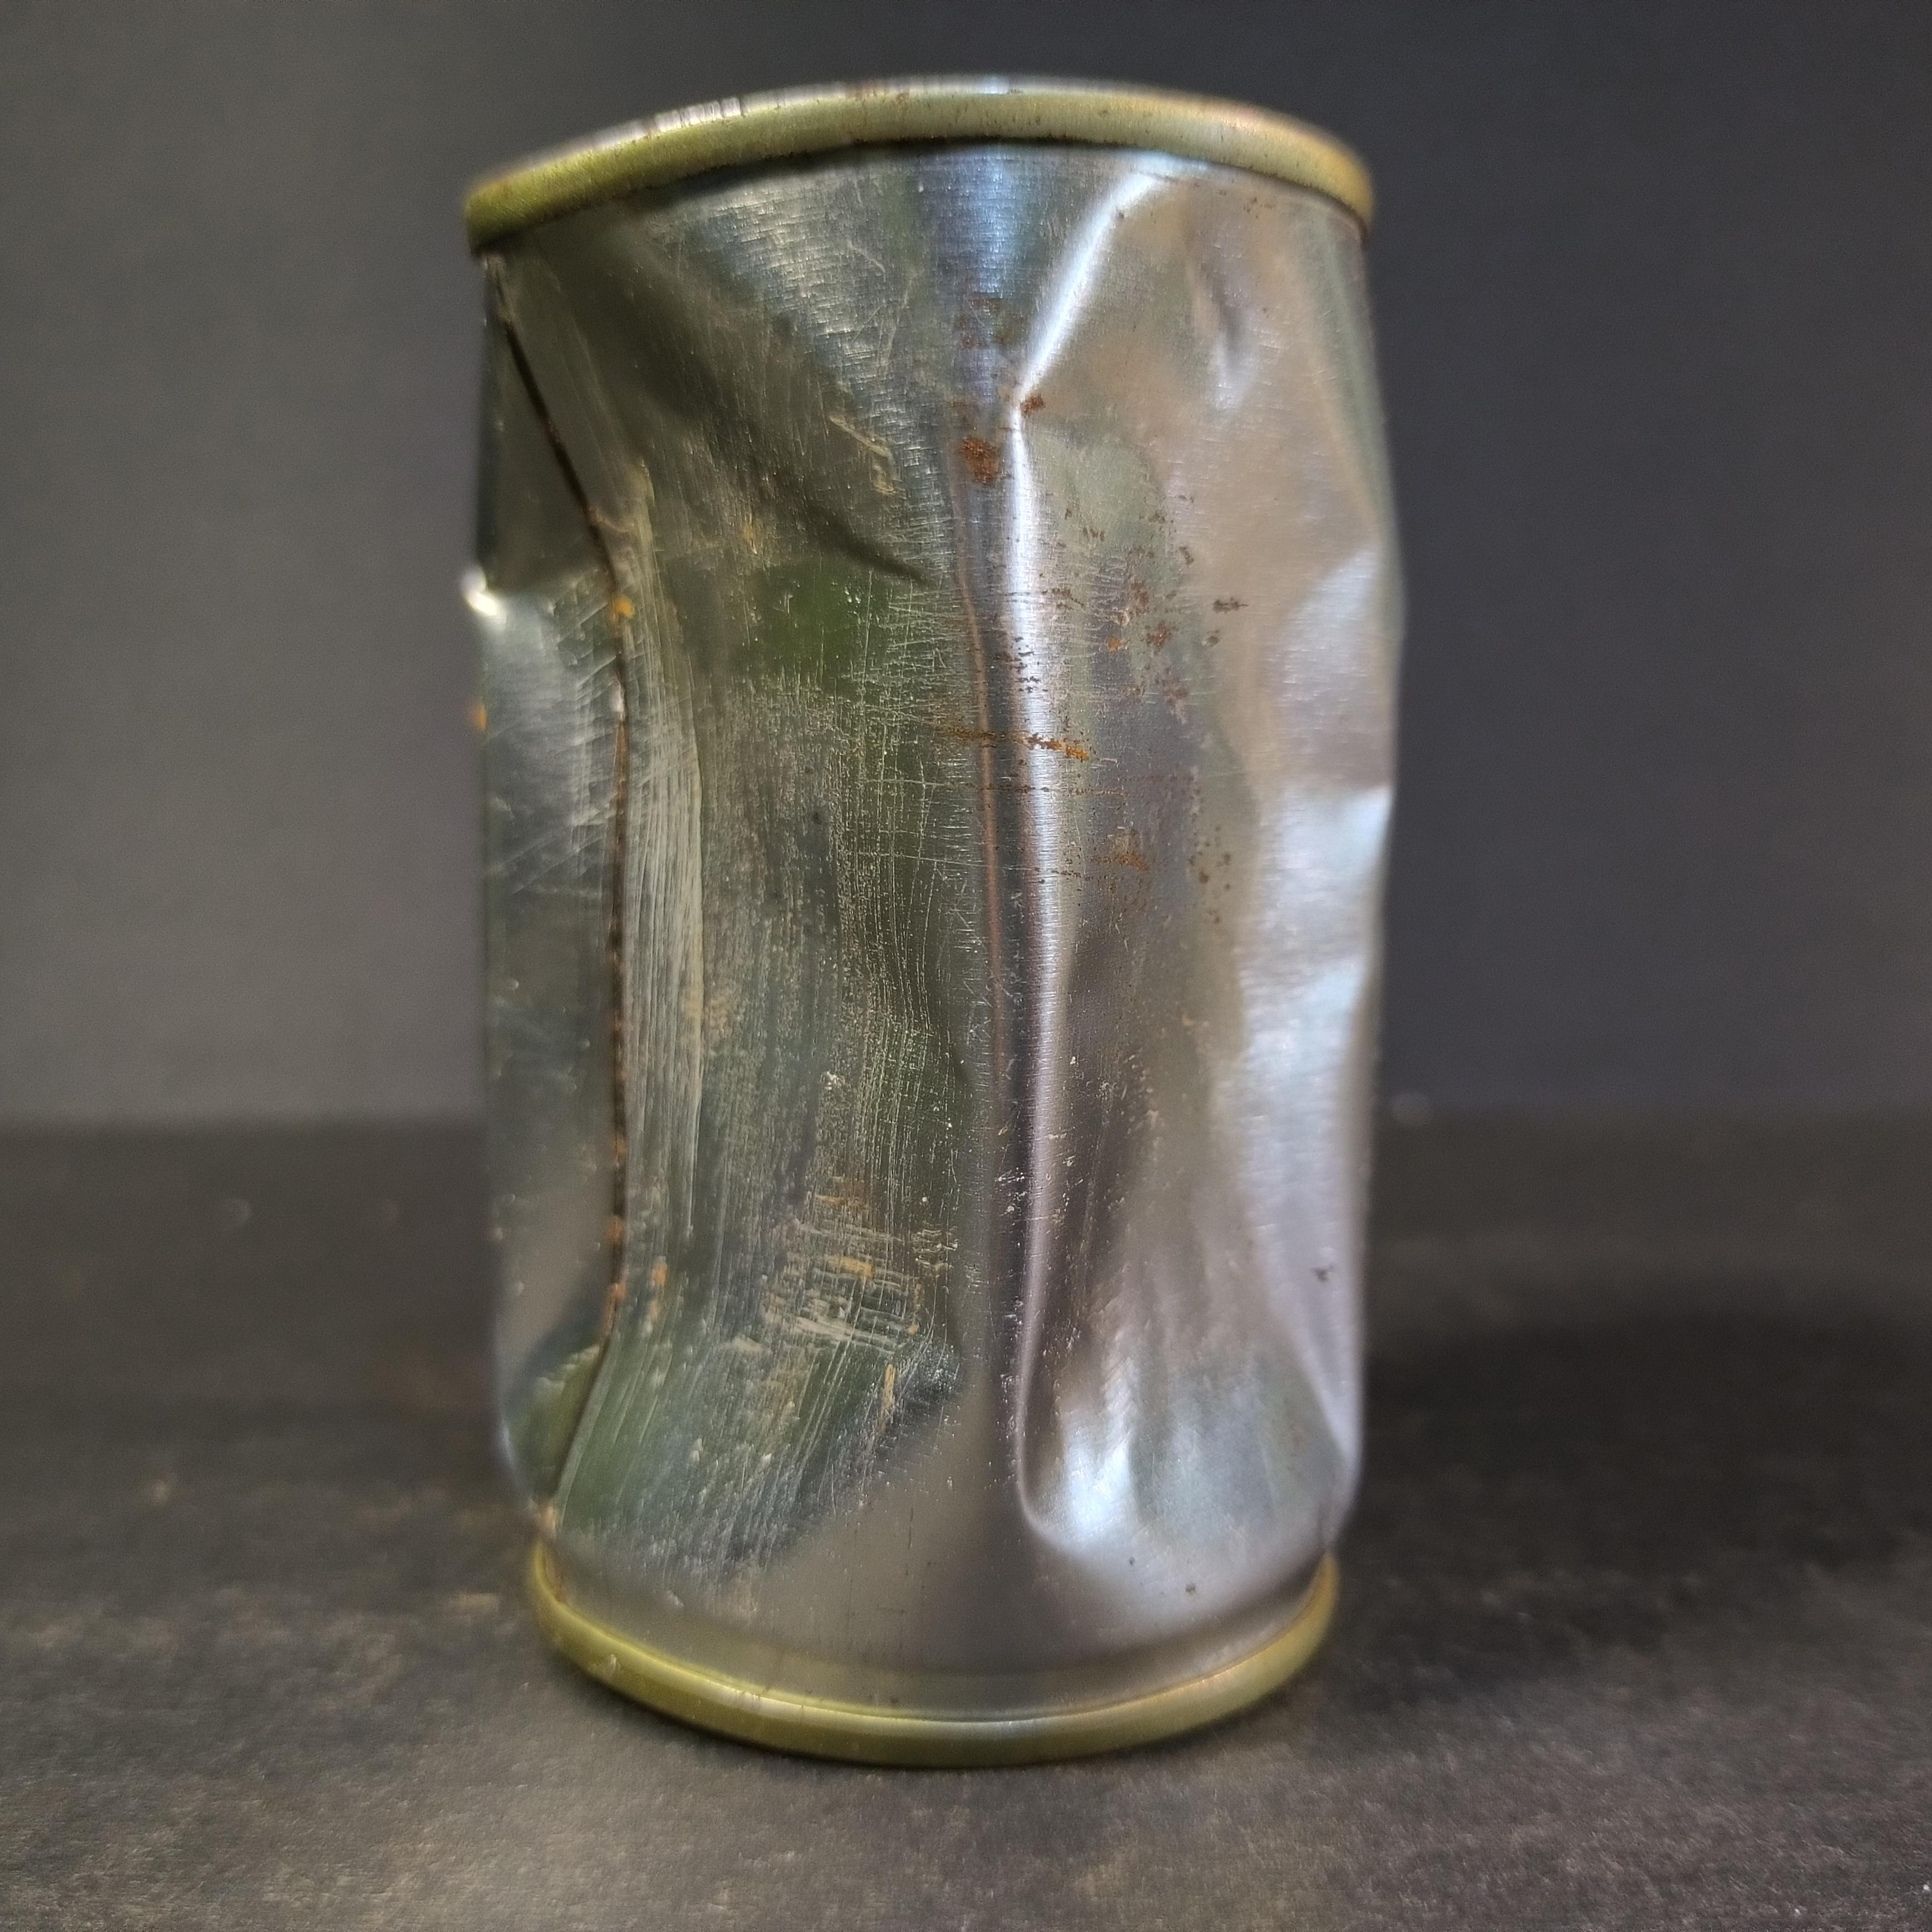Dented: (407, 23, 1428, 1780)
